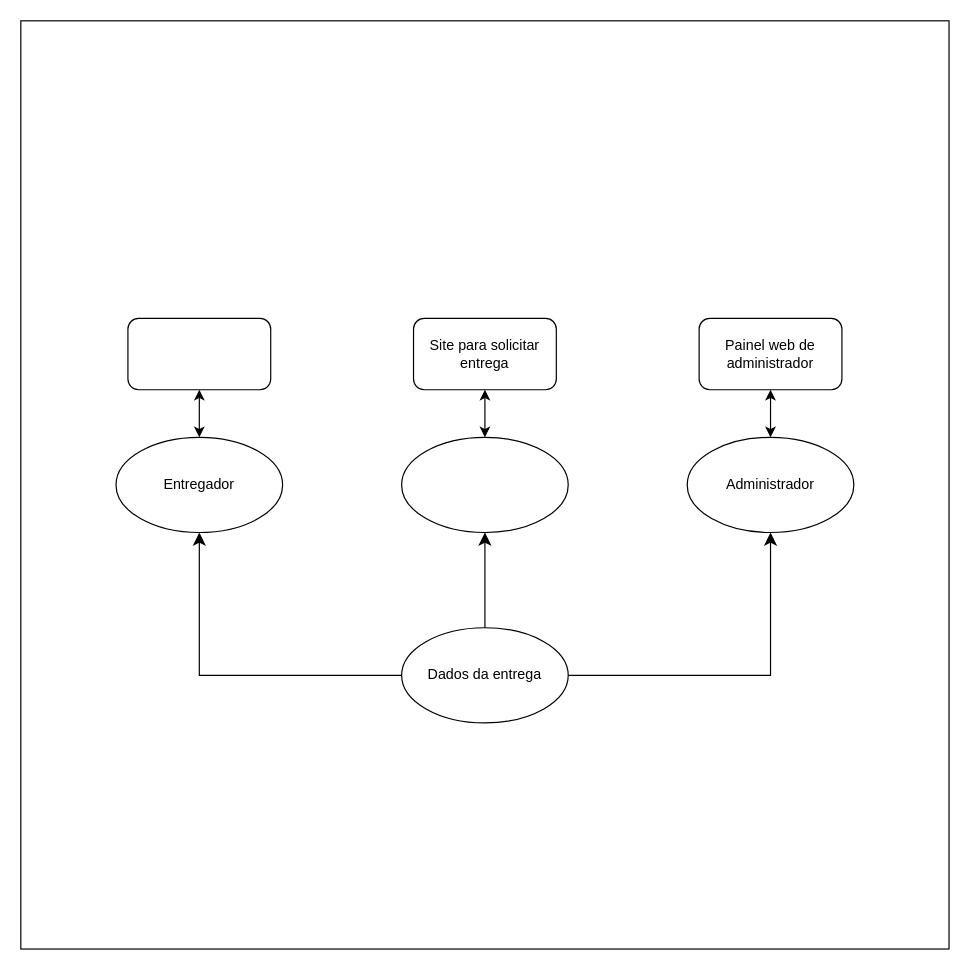
Some shapes in this 970 by 970 pixel diagram are drawn without their labels. Here are the shapes that lost their labels. From the top down, the centre of each, then its label:
pixel 199 353: Aplicativo de entregas
pixel 484 484: Empresa
